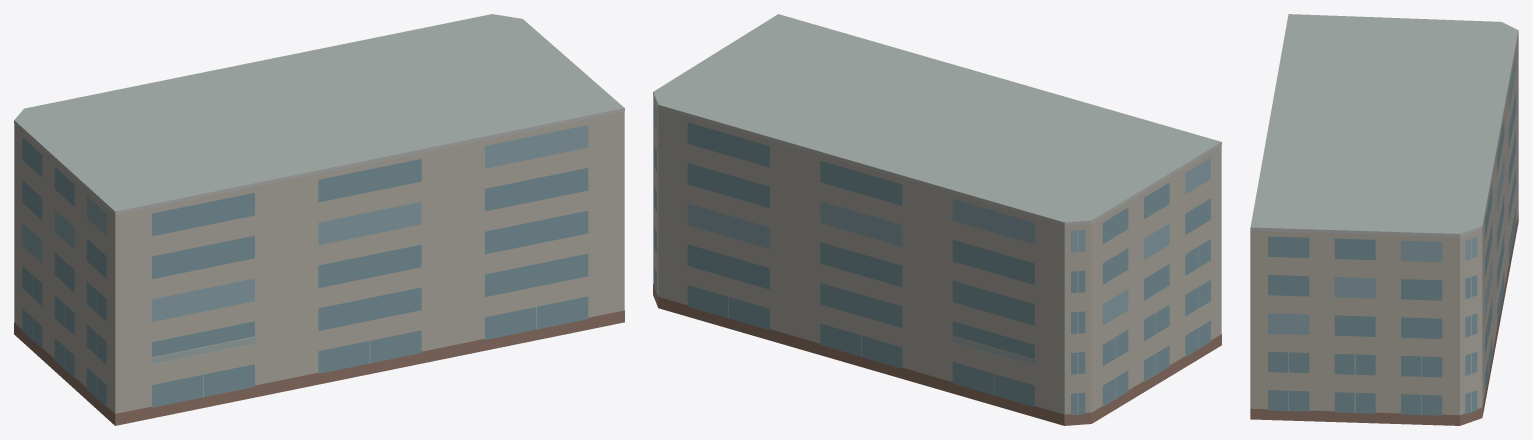
Rendered from survey-upis-32832595.glb.
The picture shows the model from 3 angles, left to right: view 1: azimuth 30°, elevation 25°; view 2: azimuth 150°, elevation 25°; view 3: azimuth 270°, elevation 25°; orthographic projection. The views are drawn at different scales.
Parts seen in each view (by area): view 1: survey-upis-32832595.tmp; view 2: survey-upis-32832595.tmp; view 3: survey-upis-32832595.tmp.
Boxes of the visible parts, x1,y1,x2,y2 form: survey-upis-32832595.tmp: (14, 14, 624, 425); survey-upis-32832595.tmp: (653, 14, 1221, 425); survey-upis-32832595.tmp: (1250, 14, 1518, 425).
Size of the model in its own units: 37.48 by 15.25 by 19.31.
